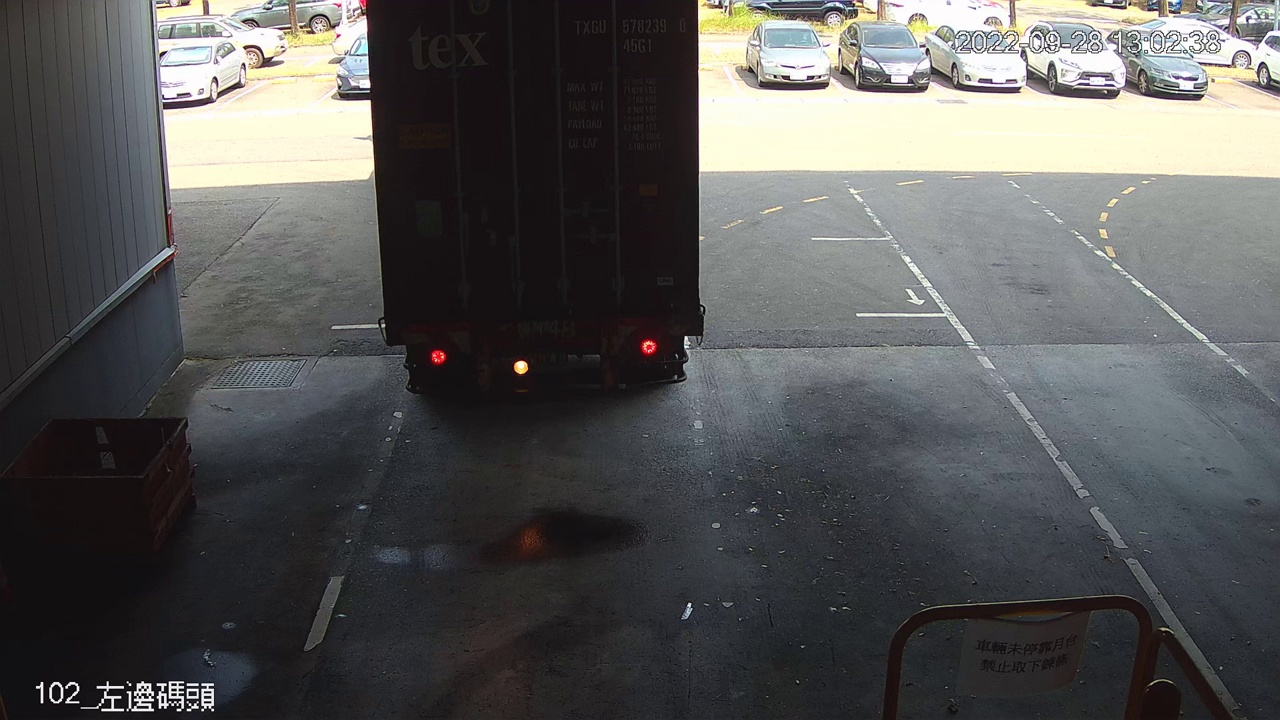container: (568, 10, 691, 59)
